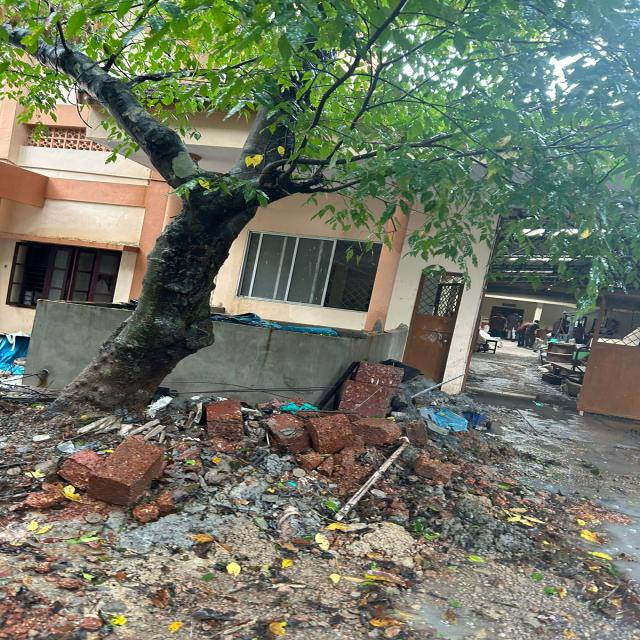stones ahead at: (257, 349, 436, 527), (65, 437, 201, 496)
tree ahead at: (17, 25, 340, 447)
